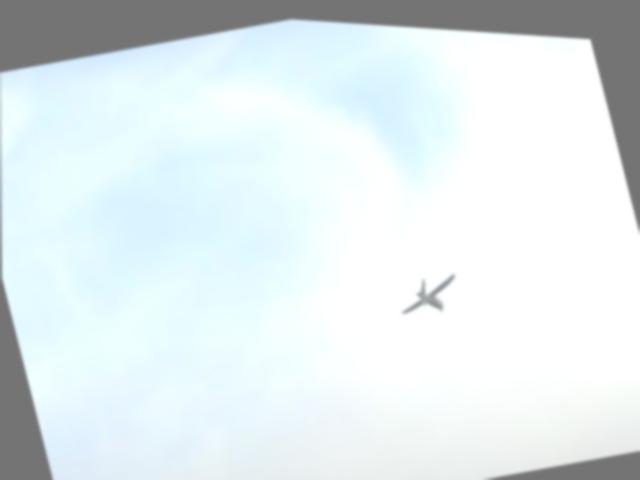uav: (388, 257, 464, 321)
